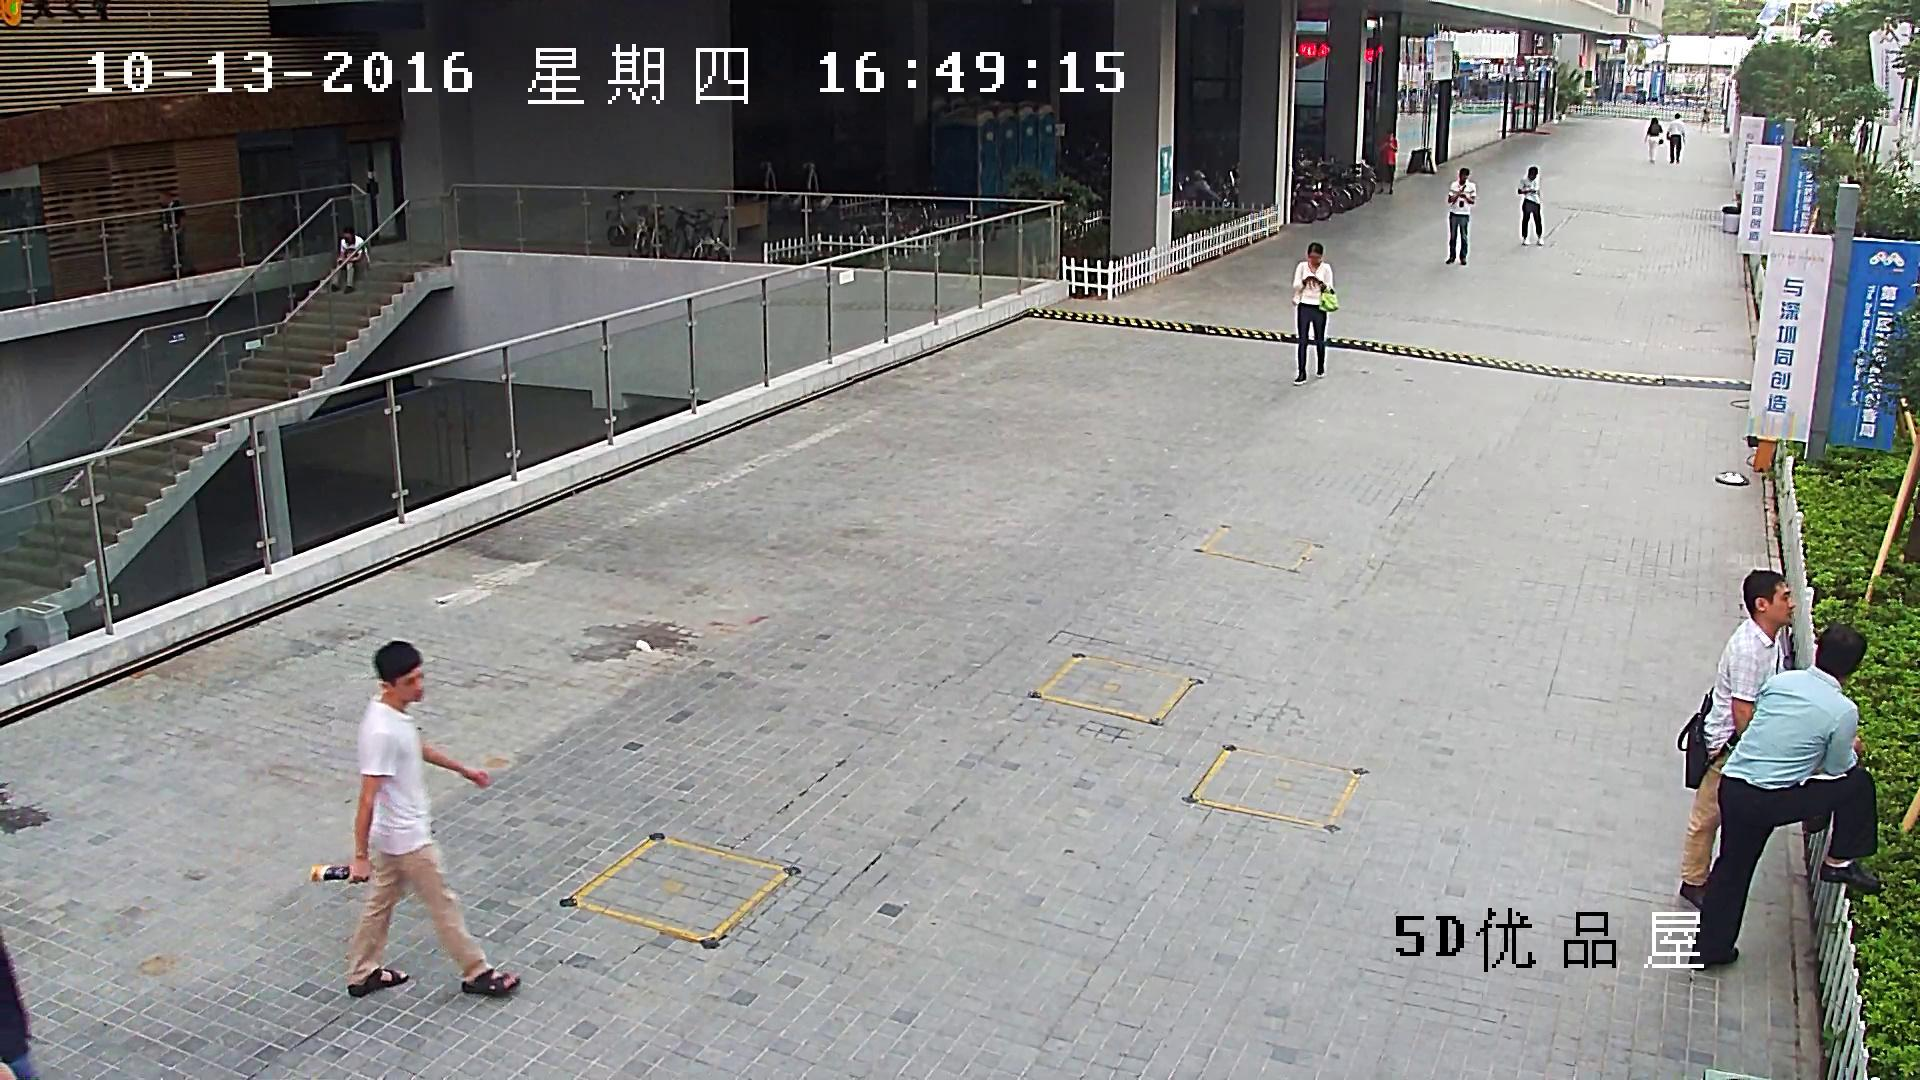person: (309, 640, 521, 998), (1684, 620, 1883, 969), (1678, 568, 1798, 915), (1290, 241, 1338, 386), (1444, 167, 1476, 265), (329, 223, 371, 295), (155, 188, 188, 278), (1516, 165, 1543, 247), (1374, 129, 1398, 195), (1665, 113, 1687, 164), (1643, 117, 1663, 164), (1699, 103, 1712, 134), (1858, 118, 1868, 154), (1408, 88, 1417, 114), (1399, 90, 1407, 114)
